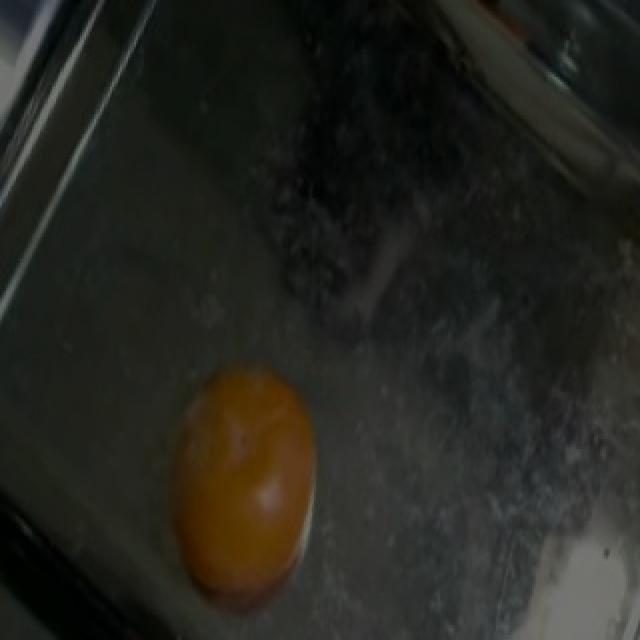Fruit: (140, 347, 344, 630)
